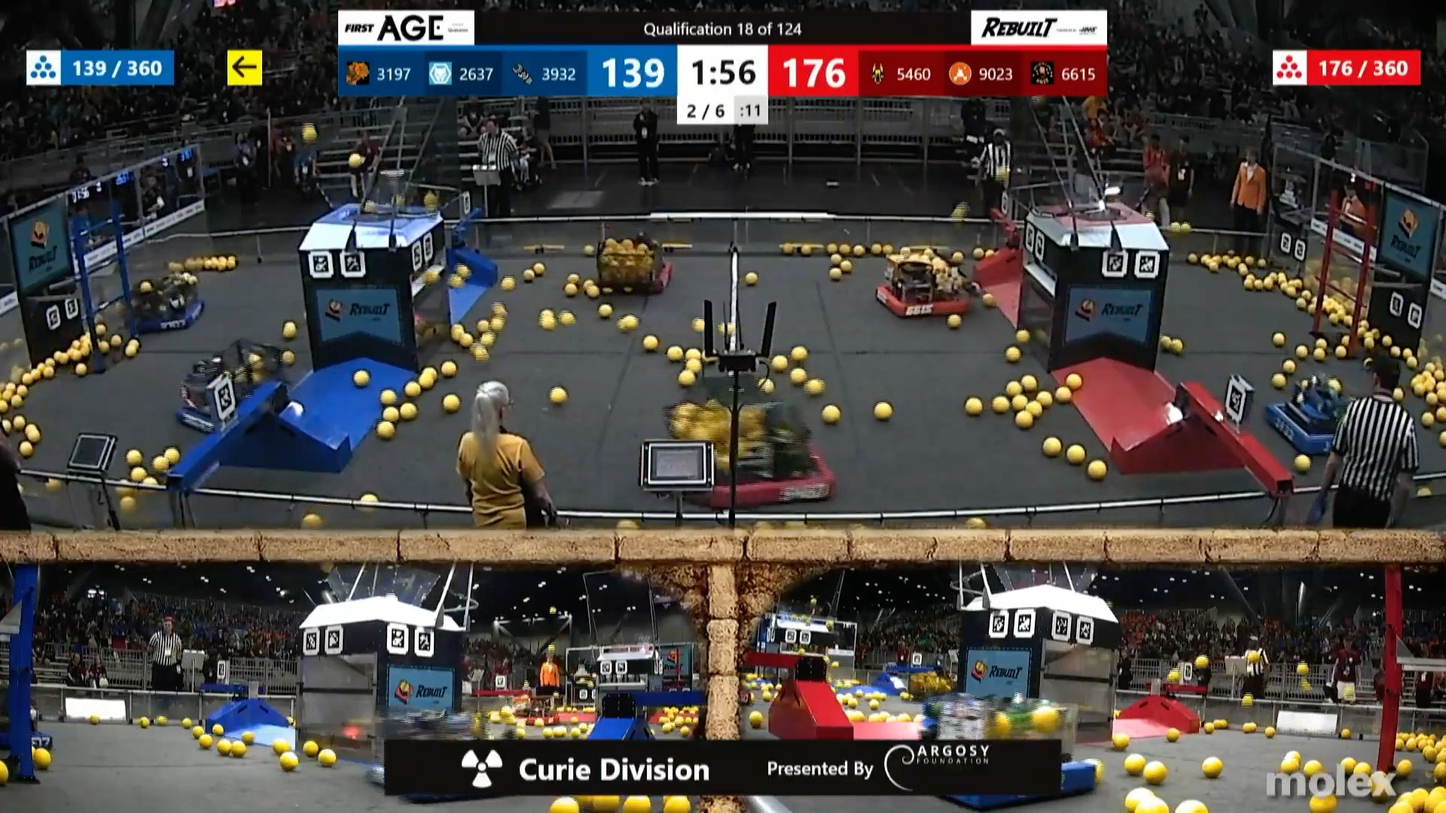bumpers: (702, 439, 838, 510), (166, 372, 298, 438), (1255, 396, 1363, 459), (865, 278, 981, 324), (578, 257, 679, 300), (118, 294, 218, 337)
